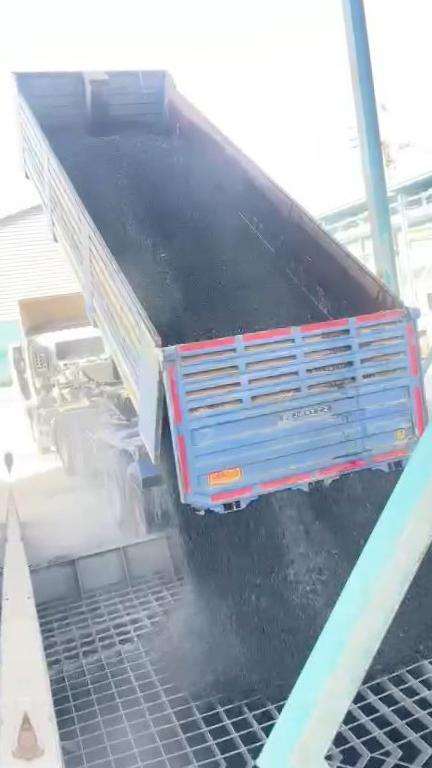gravel: (46, 133, 338, 350), (153, 471, 395, 698), (372, 526, 432, 673)
